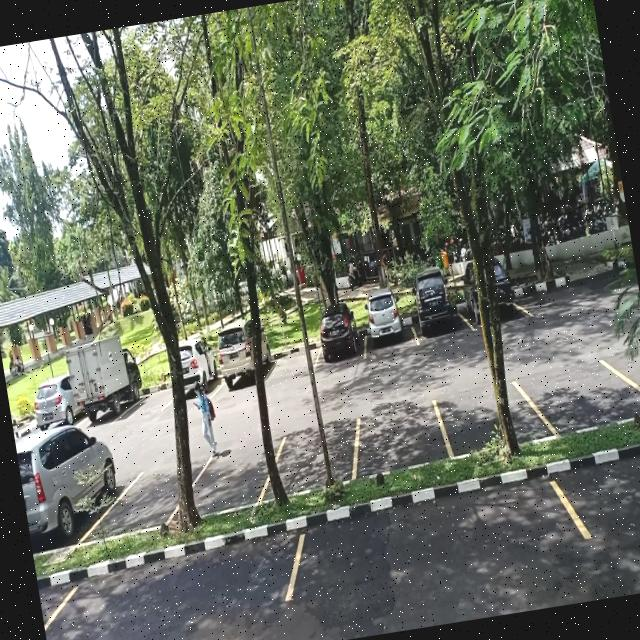empty: (282, 475, 584, 603), (35, 529, 308, 640), (526, 353, 640, 440), (436, 378, 540, 458), (352, 401, 448, 478), (188, 440, 276, 518), (272, 420, 366, 492), (110, 459, 186, 539), (261, 334, 321, 384)
occupied: (16, 434, 126, 550), (406, 276, 468, 345), (357, 292, 418, 358), (210, 329, 272, 393), (310, 312, 370, 370)
